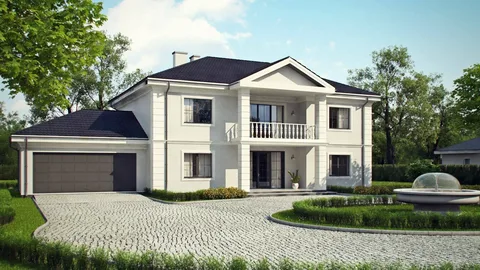private_hause: (94, 52, 373, 194)
